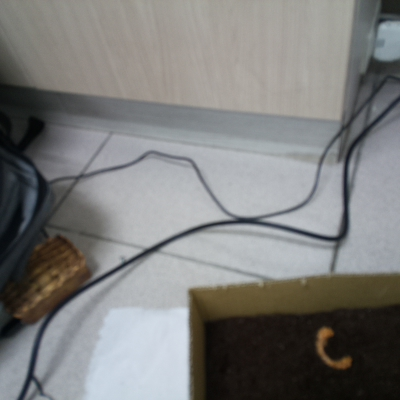eggs: (311, 321, 357, 377)
